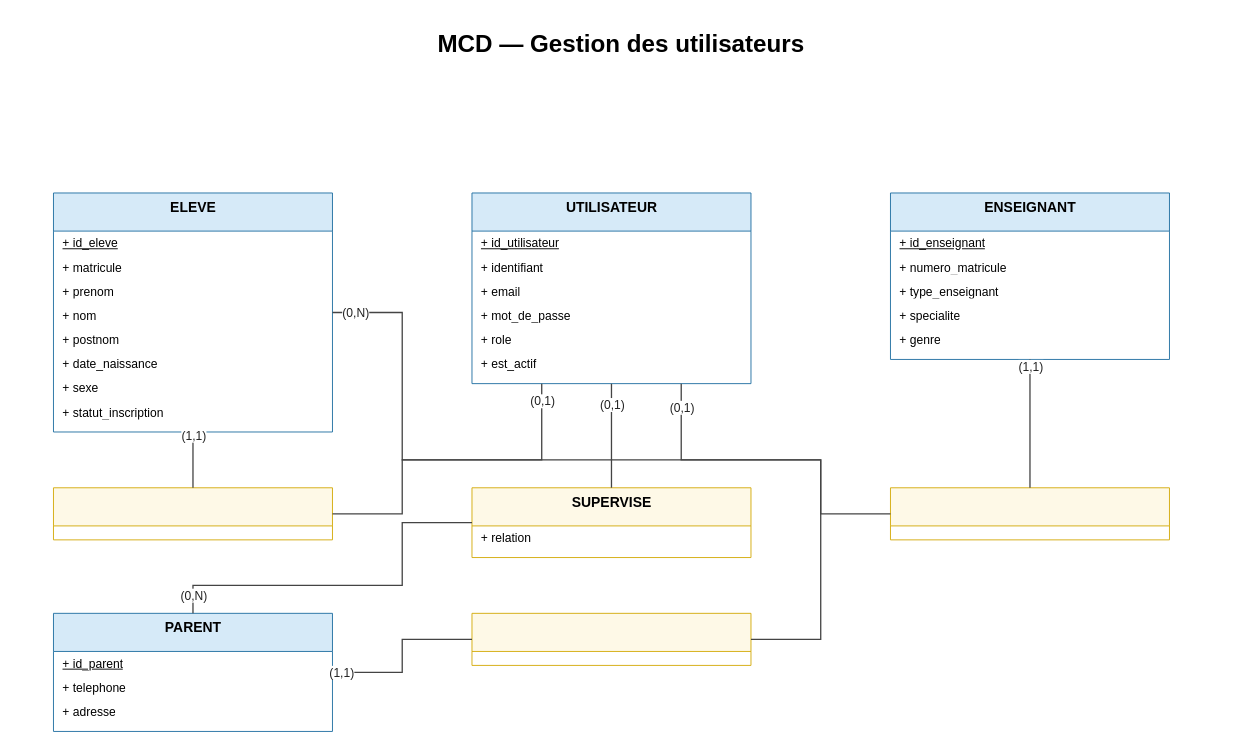
Image size: 1241x748. Some labels were removed from this diagram. Here are the shapes that lost their labels. From the top down, the centre of each, then its label:
At pixel 192 513: "EST_ELEVE".
At pixel 1029 513: "EST_ENSEIGNANT".
At pixel 611 638: "EST_PARENT".
